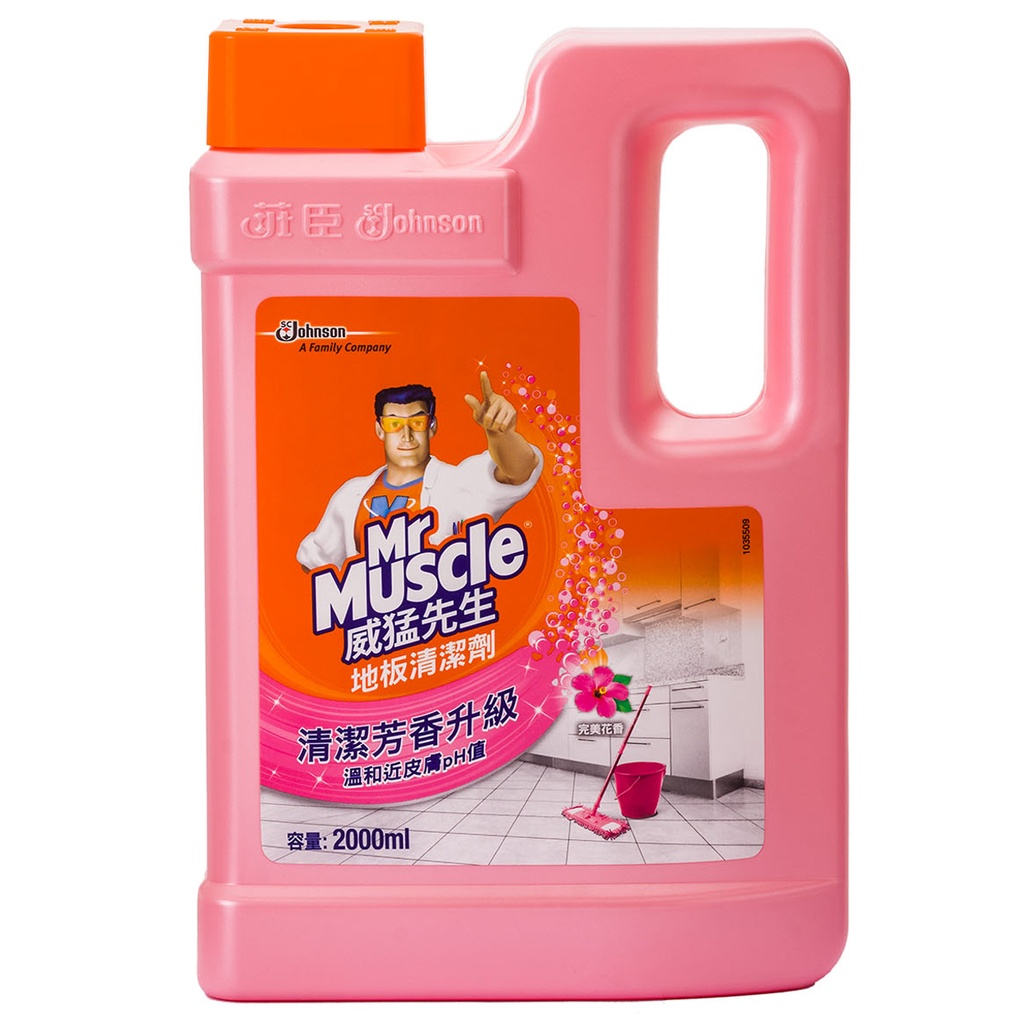cleaner: (173, 18, 913, 1008)
